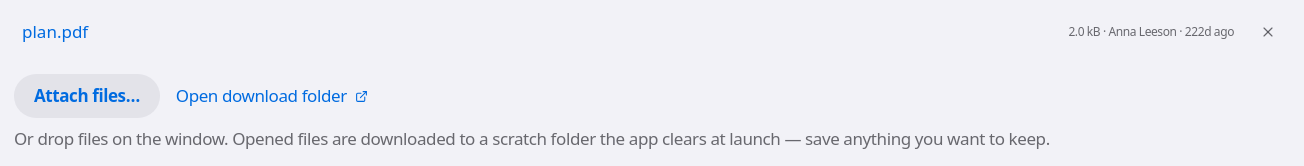
Test: deleting a file › deletes on the second click
Click the button titled "Delete plan.pdf from this issue": {"x": 1268, "y": 32} [1246,10,1290,54]
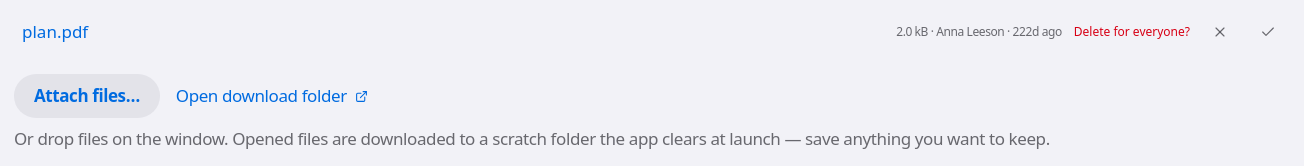
Click the button titled "Delete plan.pdf from this issue": {"x": 1268, "y": 32} [1246,10,1290,54]
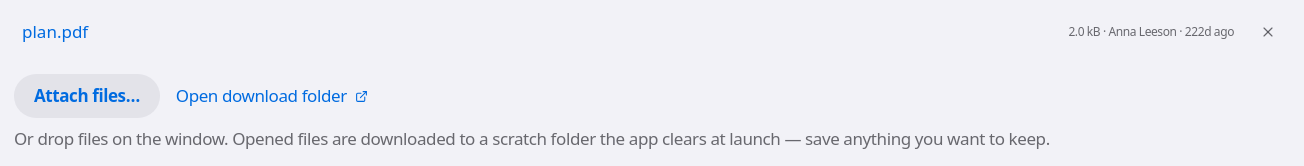
Check: the text "Delete for everyone?" is gone
